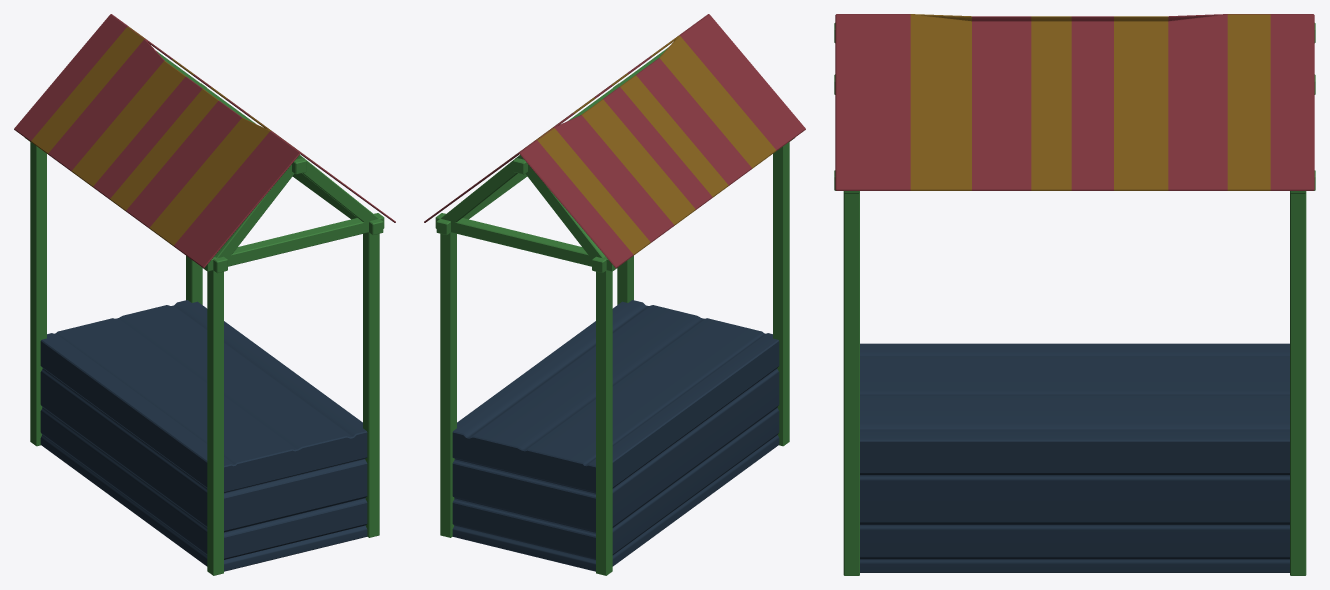
File: Textured Market Stand.fbx
The picture shows the model from 3 angles, left to right: view 1: azimuth 30°, elevation 25°; view 2: azimuth 150°, elevation 25°; view 3: azimuth 270°, elevation 25°; orthographic projection. The views are drawn at different scales.
Parts seen in each view (by area): view 1: Market_Stand_Base, Market_Stand_Legs, Market_Stand_Top_1, Market_Stand_Top_2; view 2: Market_Stand_Base, Market_Stand_Legs, Market_Stand_Top_1, Market_Stand_Top_2; view 3: Market_Stand_Base, Market_Stand_Top_1, Market_Stand_Top_2, Market_Stand_Legs.
Part boxes in pixels (left/top/right/bottom): Market_Stand_Base: left=40, top=300, right=367, bottom=571; Market_Stand_Legs: left=25, top=51, right=384, bottom=575; Market_Stand_Top_1: left=14, top=14, right=395, bottom=268; Market_Stand_Top_2: left=31, top=26, right=312, bottom=246; Market_Stand_Base: left=452, top=300, right=779, bottom=571; Market_Stand_Legs: left=435, top=48, right=794, bottom=575; Market_Stand_Top_1: left=424, top=14, right=805, bottom=268; Market_Stand_Top_2: left=492, top=35, right=776, bottom=255; Market_Stand_Base: left=860, top=343, right=1289, bottom=572; Market_Stand_Top_1: left=835, top=14, right=1314, bottom=190; Market_Stand_Top_2: left=910, top=14, right=1270, bottom=190; Market_Stand_Legs: left=834, top=23, right=1315, bottom=575.
Bounding box in the file's own units: 2.44 × 4.91 × 4.19.
